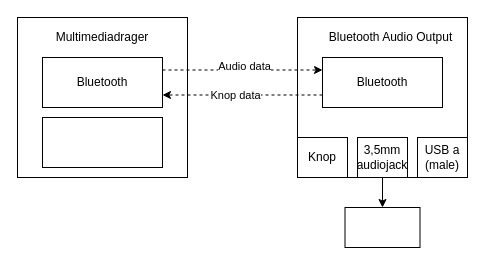
The diagram is 485 pixels wide and 265 high, and some of its shapes have lost their labels. The shapes that lost their labels are listed below. From the top down, each one's centre as x and y in pixels, then its label:
At (102,142): "Multimedia player".
At (382,227): "Audiospeler".
